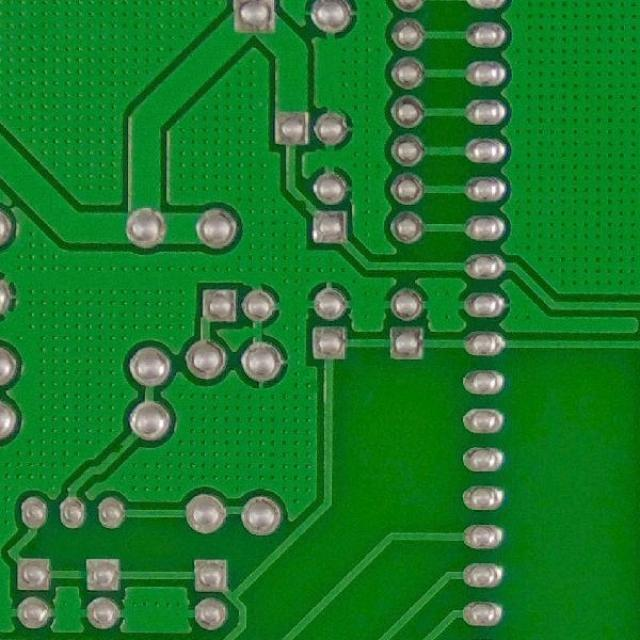MouseBite: (106, 444, 130, 458), (294, 188, 310, 208)
